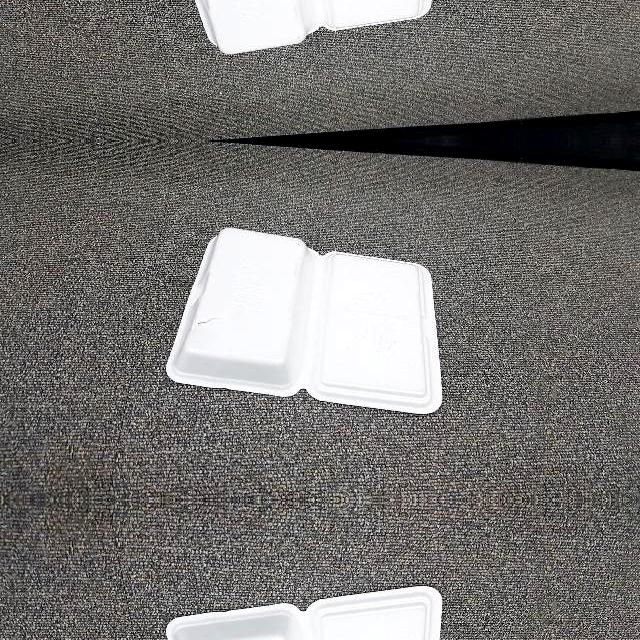Styrofoam: (167, 225, 443, 413), (167, 227, 442, 413), (167, 0, 443, 55), (167, 585, 443, 640), (167, 585, 442, 640), (195, 0, 432, 53)
